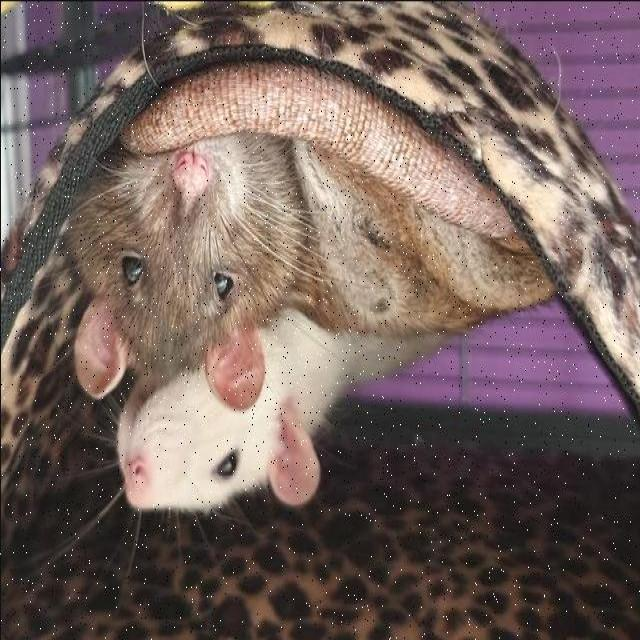rat: (70, 154, 534, 406), (79, 396, 329, 520)
